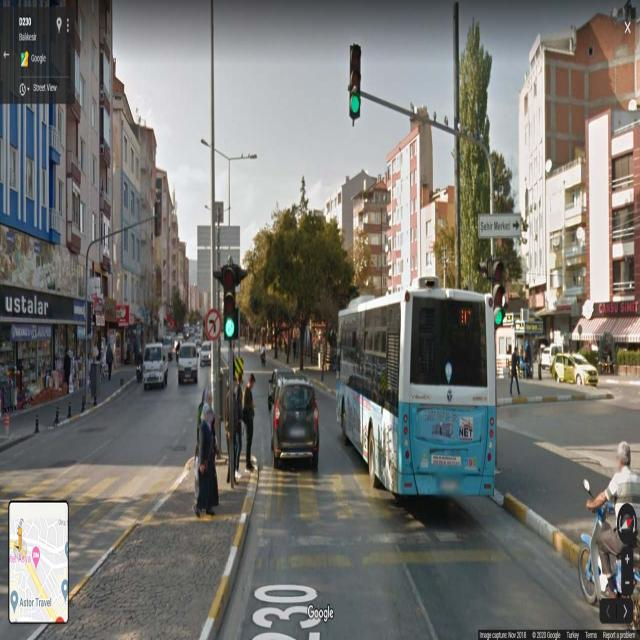soladonulmez: (207, 307, 221, 338)
yesil: (223, 263, 237, 340), (489, 260, 505, 323), (350, 45, 359, 118)
